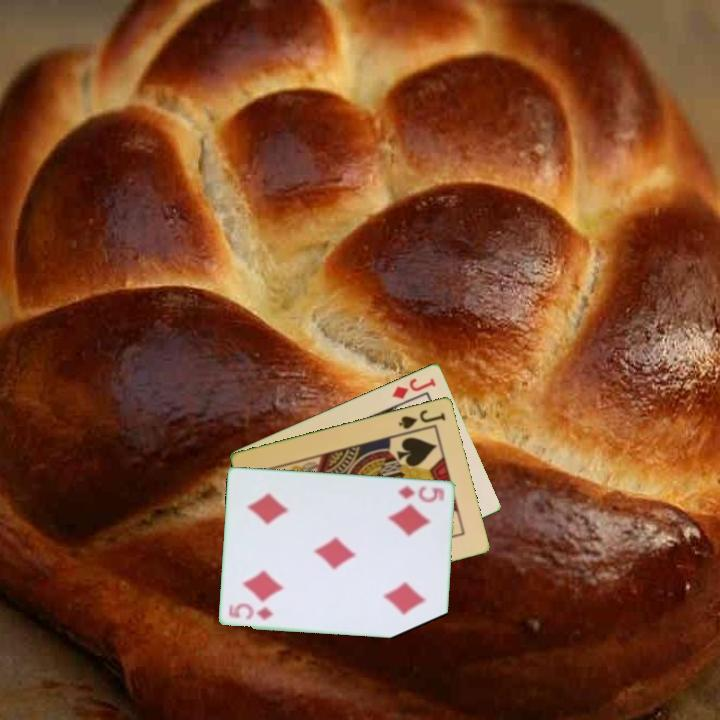5d: (394, 482, 448, 505), (225, 601, 277, 622)
Jd: (388, 374, 439, 402)
Js: (395, 406, 449, 432)
